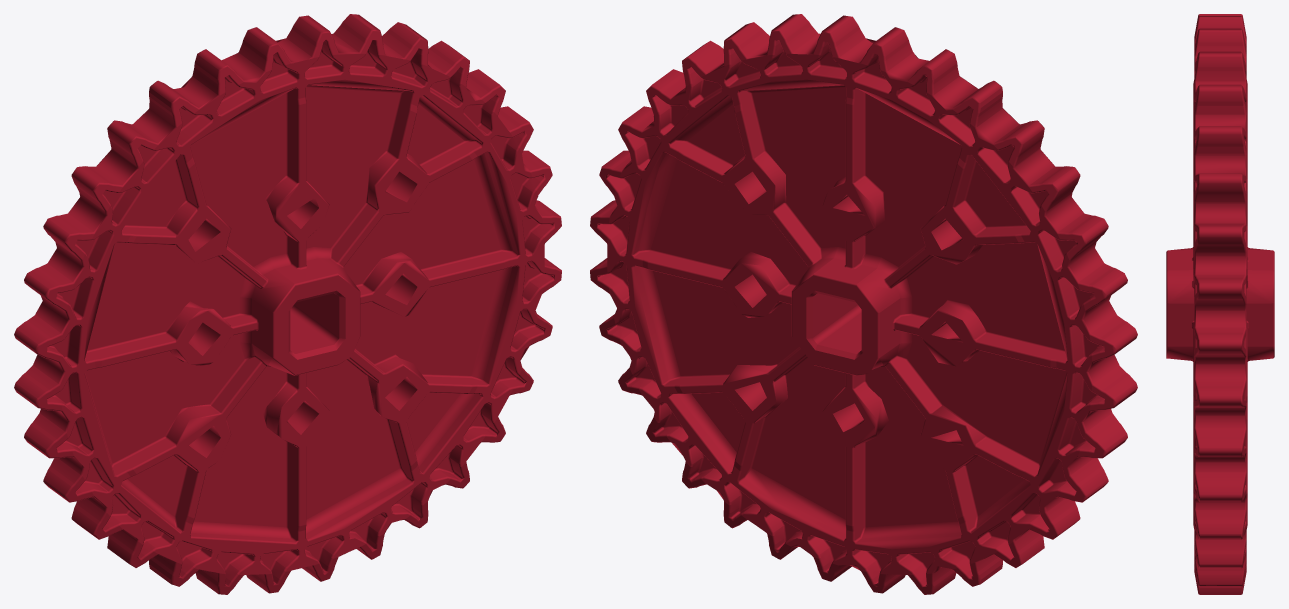
The picture shows the model from 3 angles, left to right: view 1: azimuth 30°, elevation 25°; view 2: azimuth 150°, elevation 25°; view 3: azimuth 270°, elevation 25°; orthographic projection. The views are drawn at different scales.
Parts seen in each view (by area): view 1: 276-8030-004 Rev2; view 2: 276-8030-004 Rev2; view 3: 276-8030-004 Rev2.
Part boxes in pixels (x1,y1,x2,y2): 276-8030-004 Rev2: (14,14,561,594); 276-8030-004 Rev2: (590,14,1137,594); 276-8030-004 Rev2: (1166,14,1274,594).
Bounding box in the file's own units: 68.02 × 67.79 × 12.7.
